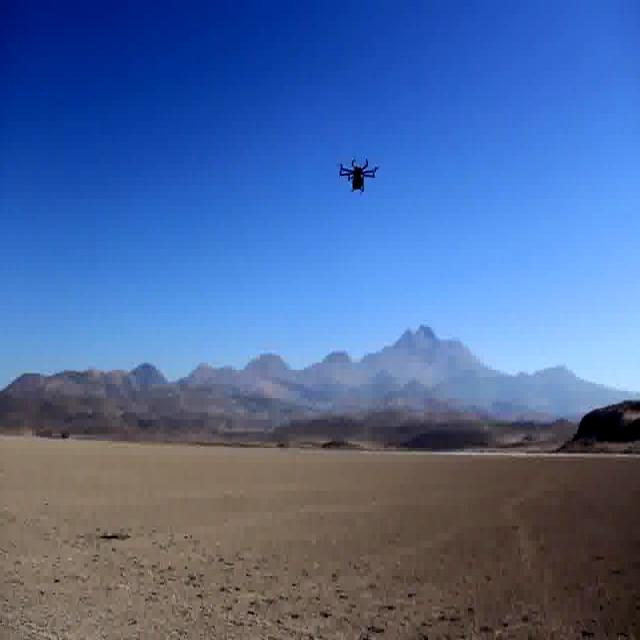drone: (338, 147, 380, 198)
